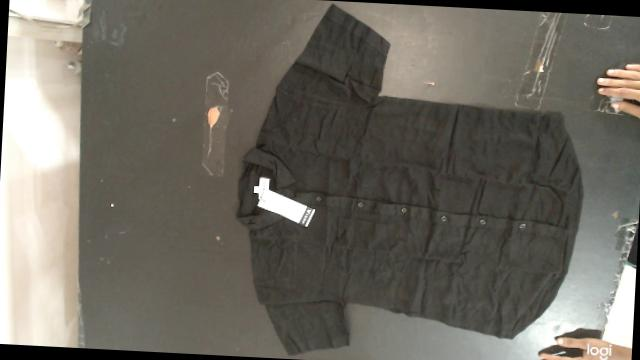new-garment: (237, 4, 582, 354)
